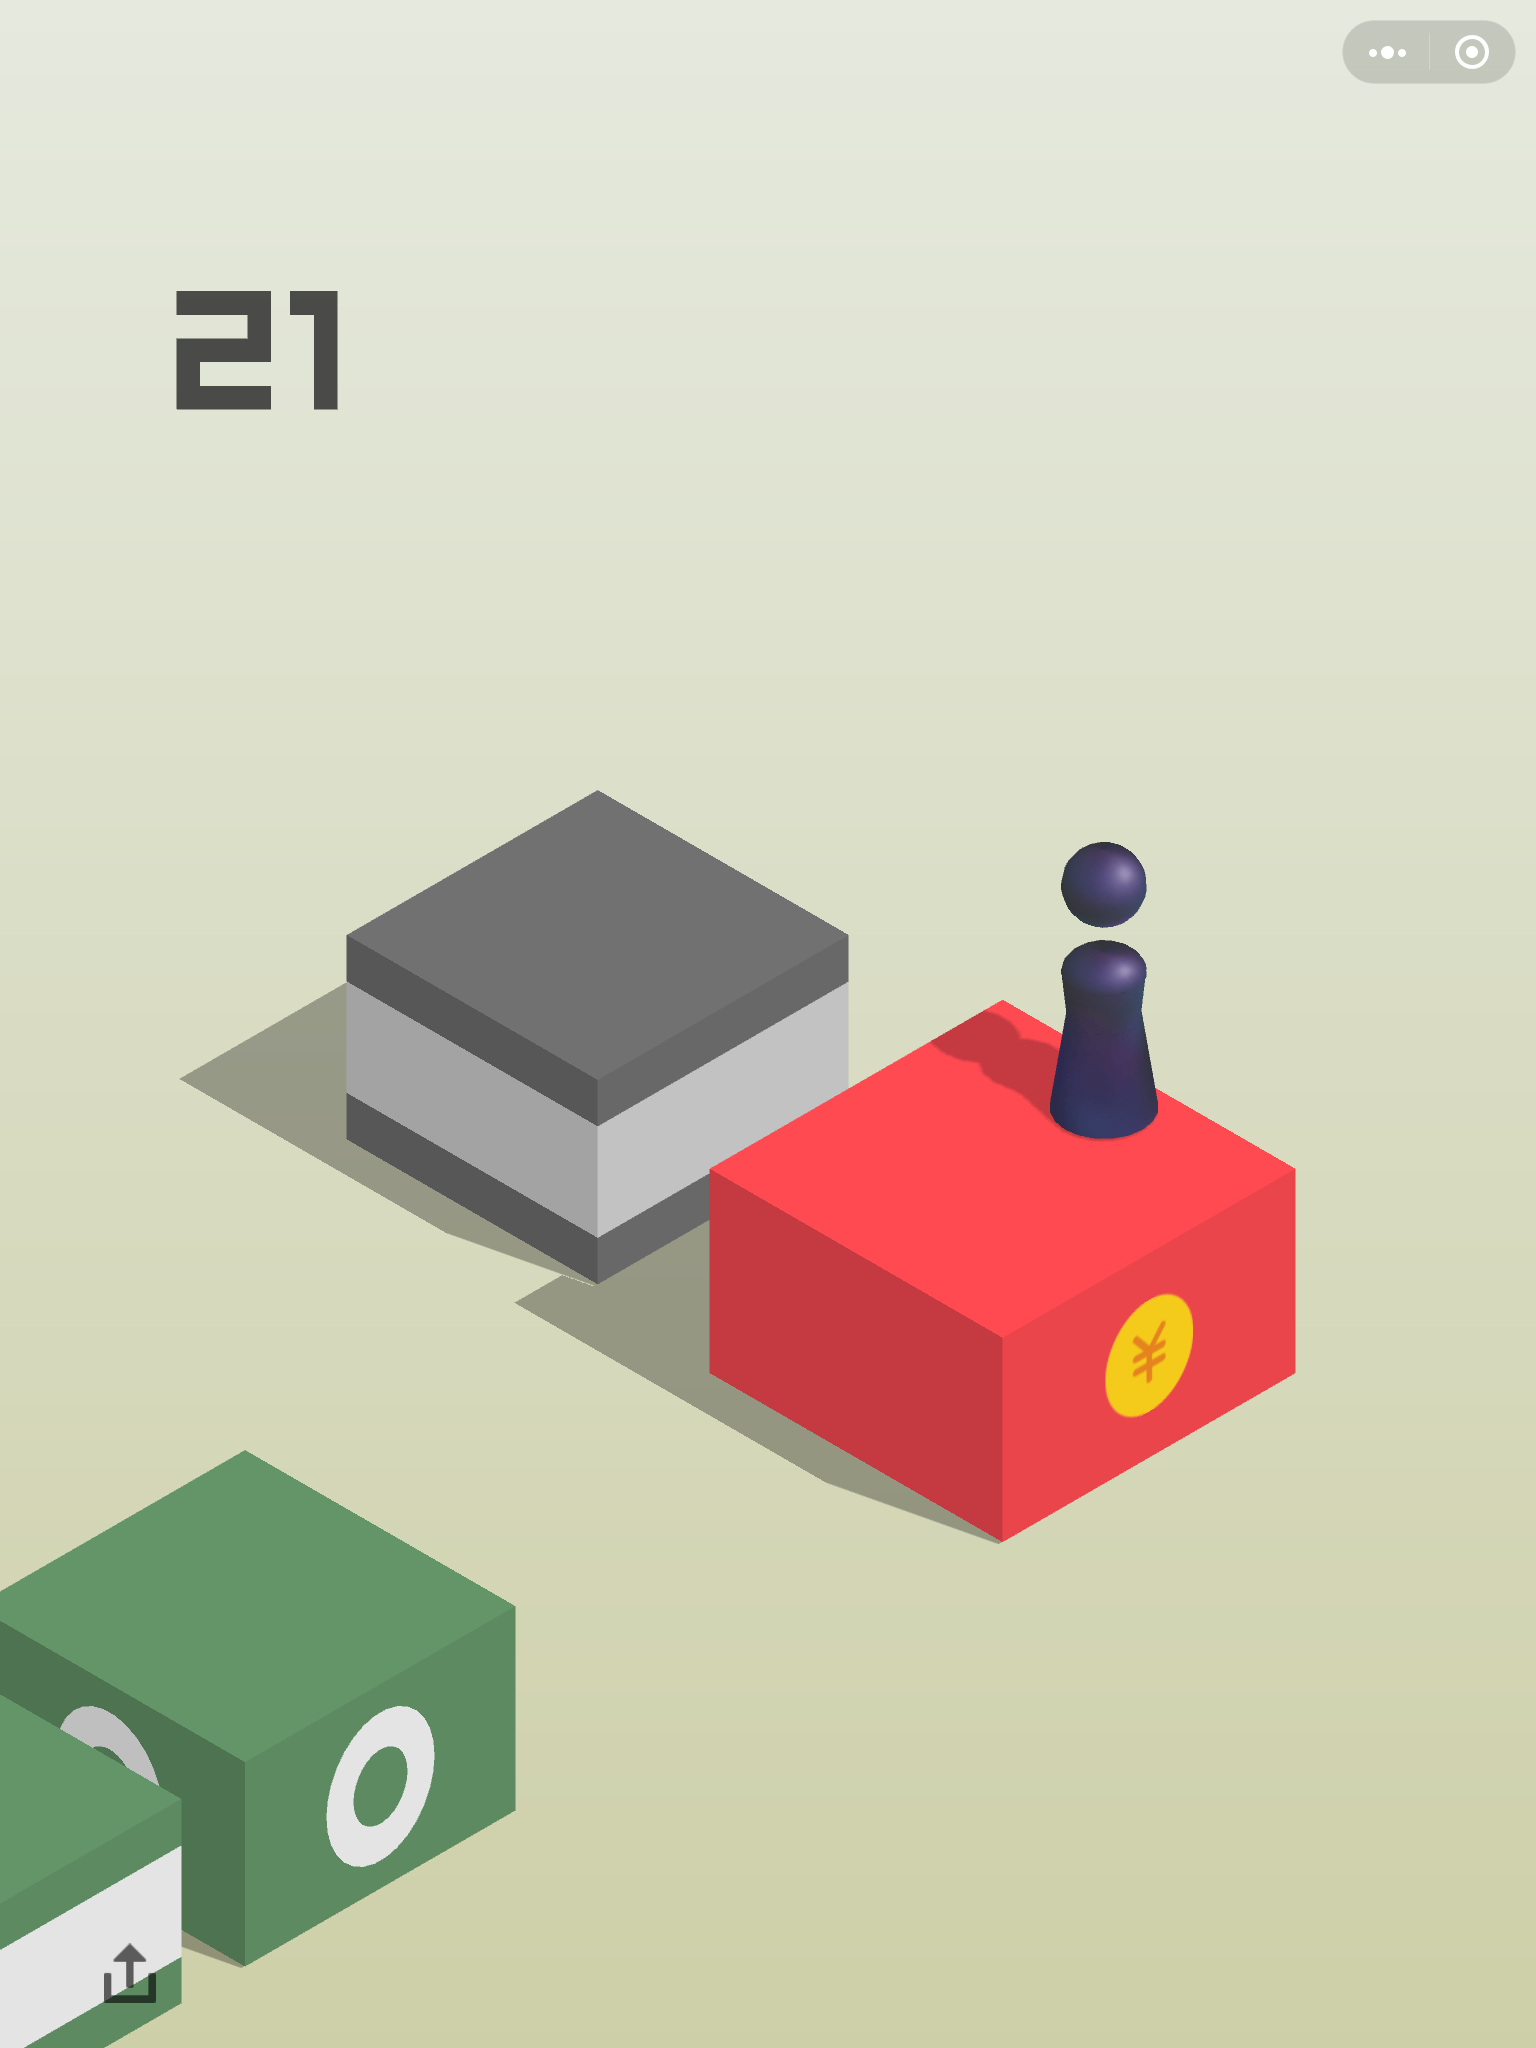f: (702, 993, 1300, 1551), (2, 1442, 523, 1971), (340, 789, 857, 1288), (2, 1675, 192, 2048)
r: (1042, 835, 1165, 1147)
